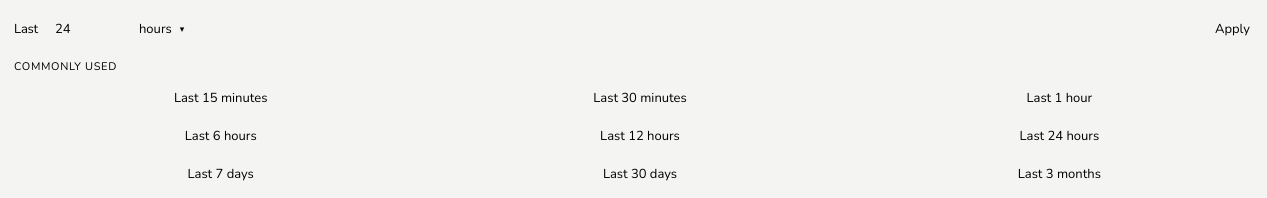
Test: QuickSelectComponent › opens the unit menu, and choosing a unit closes it
This screenshot has width=1267, height=198.
Click the button with class "option-select-trigger" at [162, 29], box [128,14,195,44]
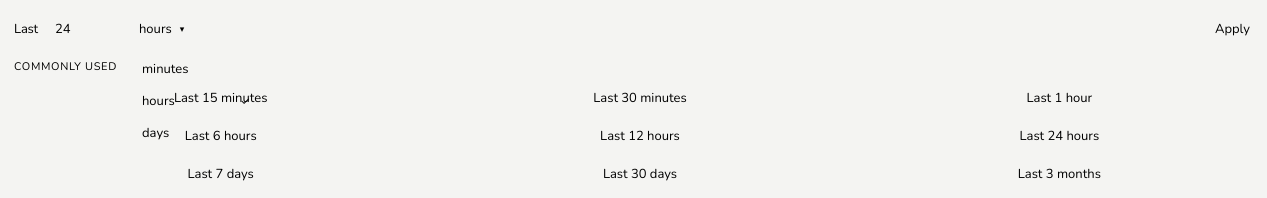
Expected: the element showing "minutes hours ✓ days" is shown, [128,49,264,153]
Click the option with class "option-menu-item" showing "days" at [196, 133], box [132,117,260,149]
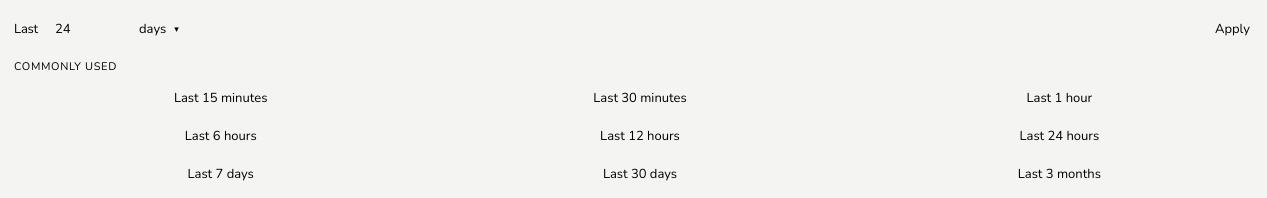
Expected: the text "days" is shown, [139,20,166,38]
